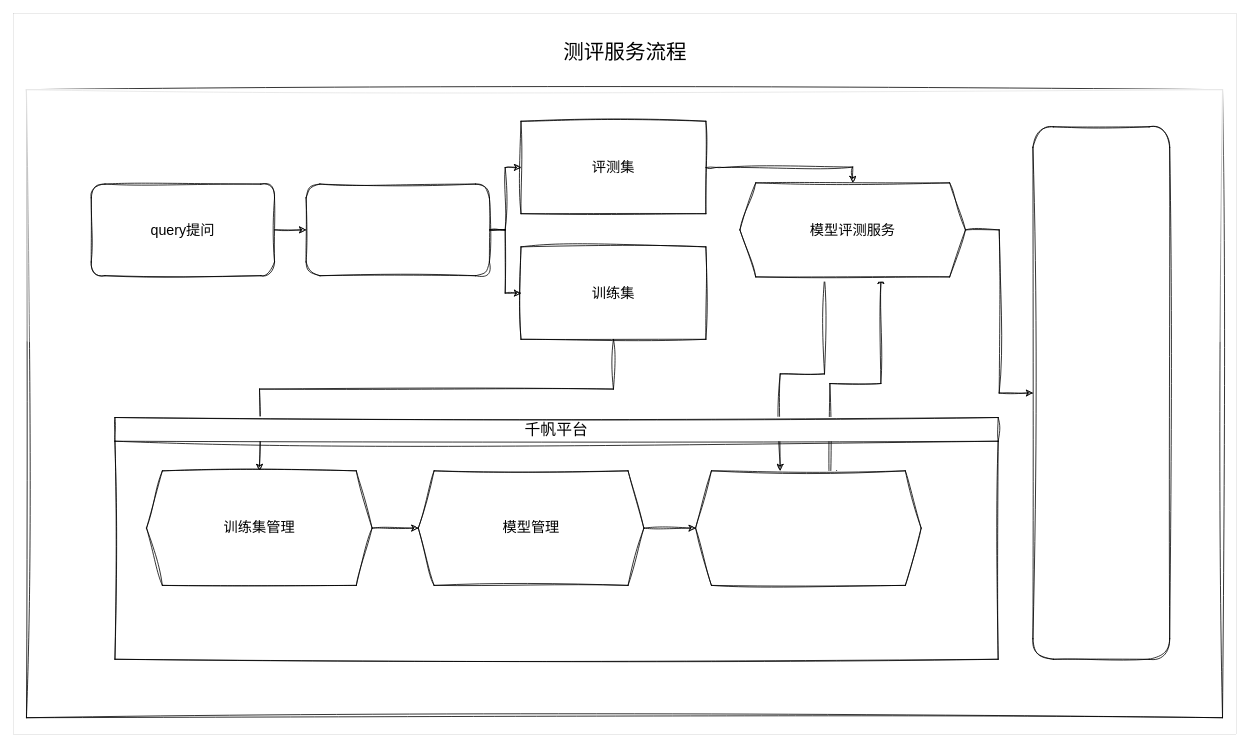
Image size: 1250x747. Some labels were removed from this diagram. Here are the shapes that lost their labels. From the top down, the centre of each, then its label:
point 397,229: 问题标注
point 1101,392: 数据校对
point 808,527: 服务发布
